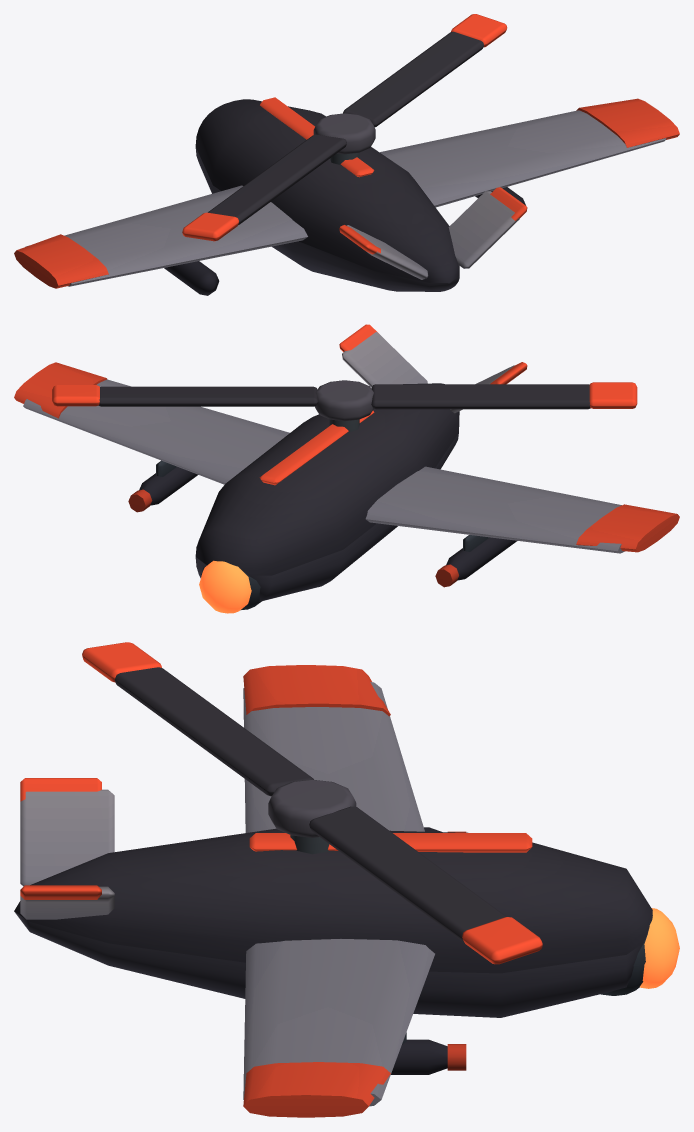
The model's file is drone.glb.
3 views of the same model, one above another, from view 1: azimuth 30°, elevation 25°; view 2: azimuth 150°, elevation 25°; view 3: azimuth 270°, elevation 25° (orthographic). The views are drawn at different scales.
Visible parts, largest first — view 1: drone Ash grey, drone Ashen charcoal, drone DroneRotor Ashen charcoal, drone Ember paint, drone Ashen slate, drone DroneRotor Ember paint, drone DroneRotor Ashen slate; view 2: drone Ashen charcoal, drone Ash grey, drone DroneRotor Ashen charcoal, drone Ember paint, drone Ashen slate, drone DroneRotor Ember paint, drone Ember glow, drone DroneRotor Ashen slate, drone Gunmetal; view 3: drone Ashen charcoal, drone Ash grey, drone Ember paint, drone DroneRotor Ashen charcoal, drone Ashen slate, drone DroneRotor Ember paint, drone DroneRotor Ashen slate, drone Ember glow, drone Gunmetal.
Part boxes in pixels (x1=…): drone Ash grey: x1=25, y1=110, x2=666, y2=286; drone Ashen charcoal: x1=164, y1=99, x2=525, y2=295; drone DroneRotor Ashen charcoal: x1=208, y1=31, x2=483, y2=224; drone Ember paint: x1=14, y1=97, x2=679, y2=288; drone Ashen slate: x1=195, y1=147, x2=459, y2=291; drone DroneRotor Ember paint: x1=182, y1=14, x2=507, y2=241; drone DroneRotor Ashen slate: x1=313, y1=113, x2=375, y2=154; drone Ashen charcoal: x1=139, y1=383, x2=517, y2=580; drone Ash grey: x1=23, y1=332, x2=624, y2=553; drone DroneRotor Ashen charcoal: x1=98, y1=384, x2=590, y2=409; drone Ember paint: x1=14, y1=324, x2=679, y2=587; drone Ashen slate: x1=195, y1=433, x2=458, y2=601; drone DroneRotor Ember paint: x1=52, y1=382, x2=637, y2=408; drone Ember glow: x1=199, y1=560, x2=251, y2=613; drone DroneRotor Ashen slate: x1=314, y1=380, x2=373, y2=421; drone Gunmetal: x1=156, y1=419, x2=489, y2=610; drone Ashen charcoal: x1=14, y1=827, x2=652, y2=1074; drone Ash grey: x1=20, y1=682, x2=434, y2=1106; drone Ember paint: x1=20, y1=665, x2=532, y2=1117; drone DroneRotor Ashen charcoal: x1=115, y1=667, x2=506, y2=941; drone Ashen slate: x1=14, y1=911, x2=643, y2=1017; drone DroneRotor Ember paint: x1=82, y1=642, x2=542, y2=964; drone DroneRotor Ashen slate: x1=268, y1=779, x2=356, y2=837; drone Ember glow: x1=640, y1=908, x2=679, y2=988; drone Gunmetal: x1=290, y1=835, x2=647, y2=1044.
Size of the model in its own units: 3.24 by 0.7362 by 2.12.
Materials: 6 (5 with a texture image).
